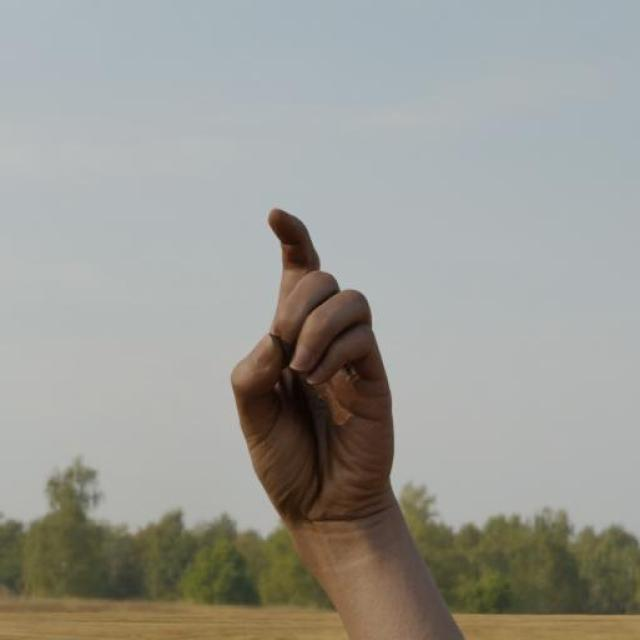X: (224, 205, 410, 523)
